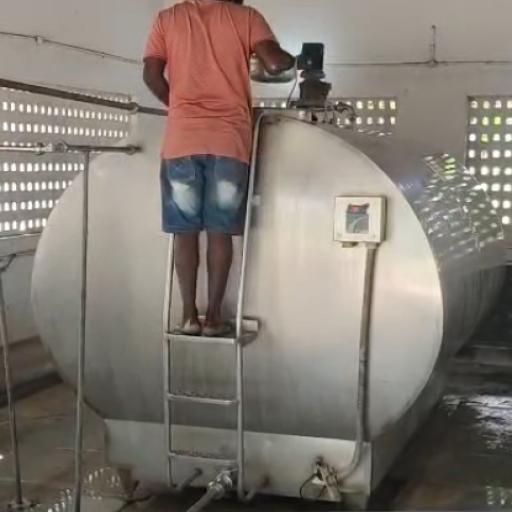silo: (28, 101, 507, 499)
vessel: (251, 57, 297, 84)
